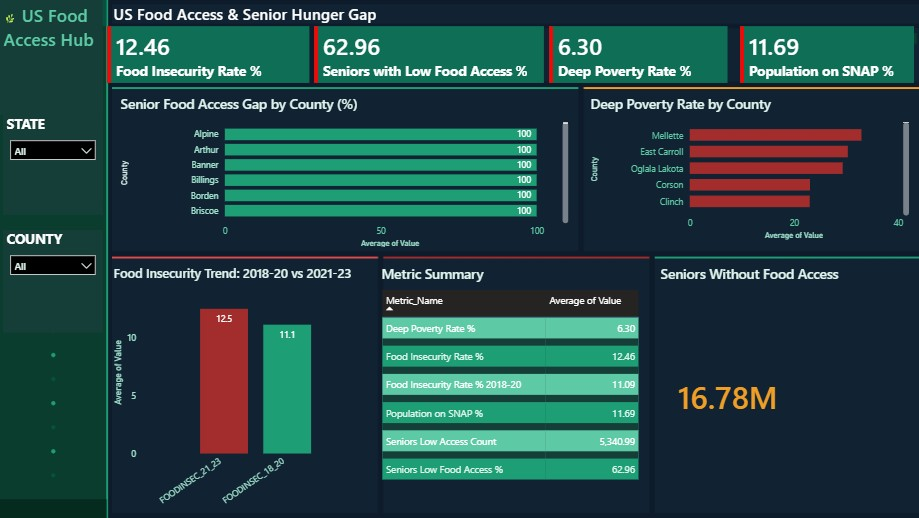

The dashboard page shown, as its layout file describes it:
{"tool":"powerbi","page":{"name":"Page 2","canvas":[1280,720],"ordinal":0},"visuals":[{"type":"cardVisual","title":"Food Insecurity Rate %","fields":{"Data":["Avg(StateAndCountyData.Value)"]},"box":[131.8,19.7,313.6,112.1],"z":0},{"type":"cardVisual","title":"Food Insecurity Rate %","fields":{"Data":["Avg(StateAndCountyData.Value)"]},"box":[416.7,19.7,351.5,112.1],"z":1000},{"type":"cardVisual","title":"Food Insecurity Rate %","fields":{"Data":["Avg(StateAndCountyData.Value)"]},"box":[742.4,19.7,280.3,112.1],"z":2000},{"type":"cardVisual","title":"Food Insecurity Rate %","fields":{"Data":["Avg(StateAndCountyData.Value)"]},"box":[1006.1,19.7,274.2,112.1],"z":3000},{"type":"slicer","title":"STATE","fields":{"Values":["StateAndCountyData.State"]},"box":[4.5,159.1,137.9,137.9],"z":4000},{"type":"slicer","title":"COUNTY","fields":{"Values":["StateAndCountyData.County"]},"box":[4.5,318.2,137.9,142.4],"z":5000},{"type":"textbox","box":[151.5,0,1109.1,39.4],"z":6000},{"type":"clusteredBarChart","title":"Senior Food Access Gap by County (%)","fields":{"Category":["StateAndCountyData.County"],"Y":["Avg(StateAndCountyData.Value)"]},"box":[162.1,131.8,628.8,215.2],"z":7000},{"type":"clusteredColumnChart","title":"Food Insecurity Trend: 2018-20 vs 2021-23","fields":{"Y":["Avg(StateAndCountyData.Value)"],"Category":["StateAndCountyData.Variable_Code"]},"box":[151.5,360.6,365.2,359.1],"z":8000},{"type":"clusteredBarChart","title":"Deep Poverty Rate by County","fields":{"Category":["StateAndCountyData.County"],"Y":["Avg(StateAndCountyData.Value)"]},"box":[810.6,131.8,450,204.5],"z":9000},{"type":"tableEx","title":"Metric Summary","fields":{"Values":["StateAndCountyData.Metric_Name","Avg(StateAndCountyData.Value)"]},"box":[522.7,360.6,365.2,359.1],"z":10000},{"type":"cardVisual","title":"Seniors Without Food Access","fields":{"Data":["Sum(StateAndCountyData.Value)"]},"box":[907.6,360.6,353,340.9],"z":10001},{"type":"textbox","box":[0,0,142.4,159.1],"z":10002}]}

Visuals, with their boxes in screenshot pixels (x1, y1, x2, y2), scaled from the page's 1280x720 canvas onto the 919x518 screenshot:
"Food Insecurity Rate %" cardVisual: region(95, 14, 320, 95)
"Food Insecurity Rate %" cardVisual: region(299, 14, 552, 95)
"Food Insecurity Rate %" cardVisual: region(533, 14, 734, 95)
"Food Insecurity Rate %" cardVisual: region(722, 14, 918, 95)
"STATE" slicer: region(3, 114, 102, 214)
"COUNTY" slicer: region(3, 229, 102, 331)
textbox: region(109, 0, 905, 28)
"Senior Food Access Gap by County (%)" clusteredBarChart: region(116, 95, 568, 250)
"Food Insecurity Trend: 2018-20 vs 2021-23" clusteredColumnChart: region(109, 259, 371, 517)
"Deep Poverty Rate by County" clusteredBarChart: region(582, 95, 905, 242)
"Metric Summary" tableEx: region(375, 259, 637, 517)
"Seniors Without Food Access" cardVisual: region(652, 259, 905, 505)
textbox: region(0, 0, 102, 114)
